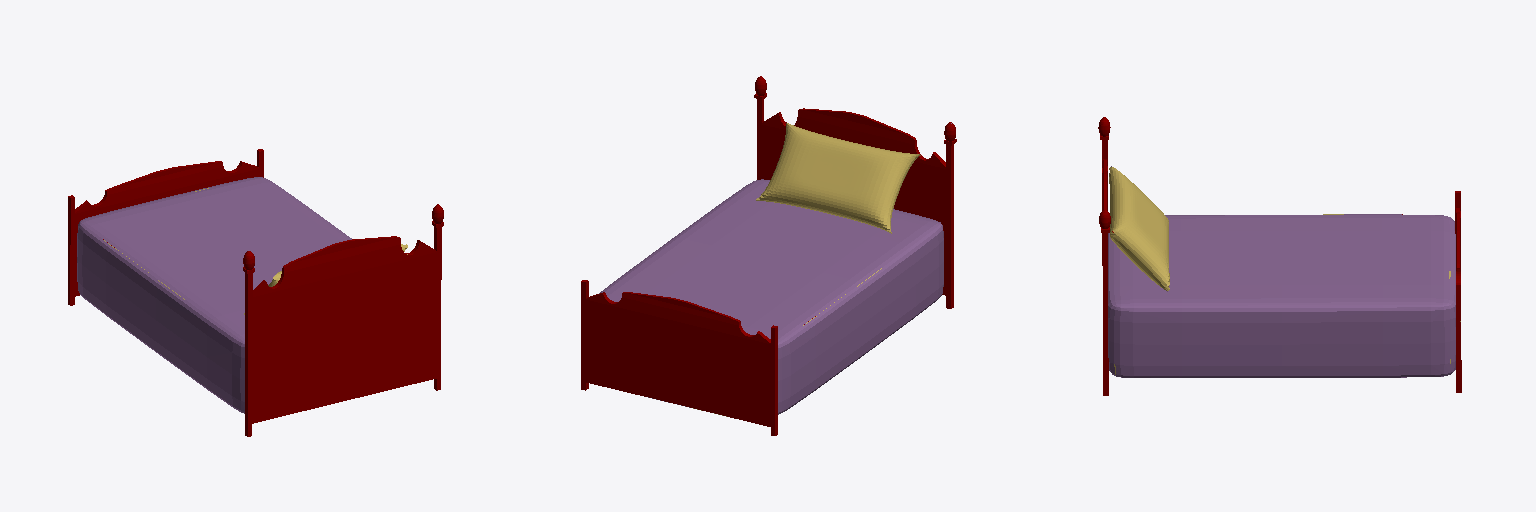
The picture shows the model from 3 angles: view 1: azimuth 30°, elevation 25°; view 2: azimuth 150°, elevation 25°; view 3: azimuth 270°, elevation 25°; orthographic projection.
Visible parts, largest first — view 1: Cube.019_Cube.021; view 2: Cube.019_Cube.021; view 3: Cube.019_Cube.021.
Boxes of the visible parts, box(x1,y1,x2,y2) form: Cube.019_Cube.021: box(68, 149, 443, 436); Cube.019_Cube.021: box(581, 76, 956, 435); Cube.019_Cube.021: box(1098, 117, 1461, 395).
Size of the model in its own units: 14.71 by 13.05 by 23.16.
Materials: 1 (1 with a texture image).